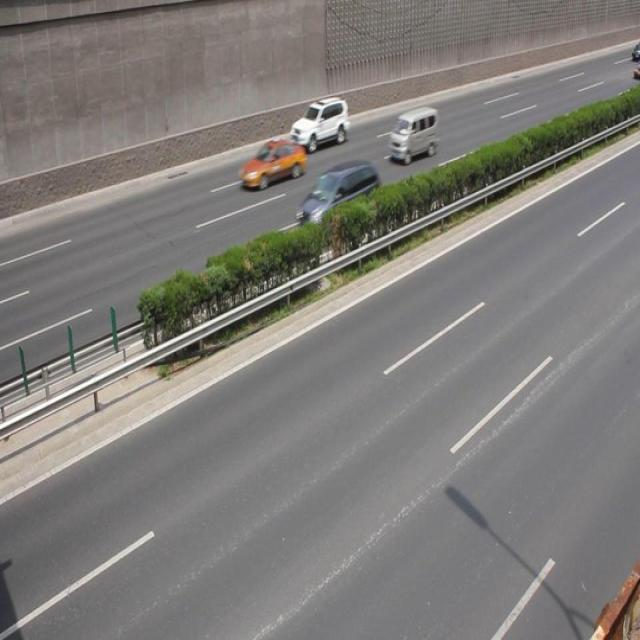car: (296, 160, 382, 239), (238, 138, 306, 190), (288, 98, 347, 154)
truck: (388, 107, 436, 161)
